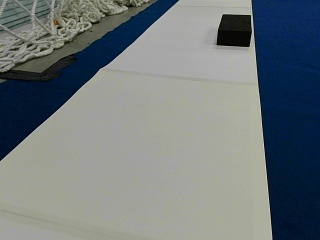block: (217, 13, 251, 46)
